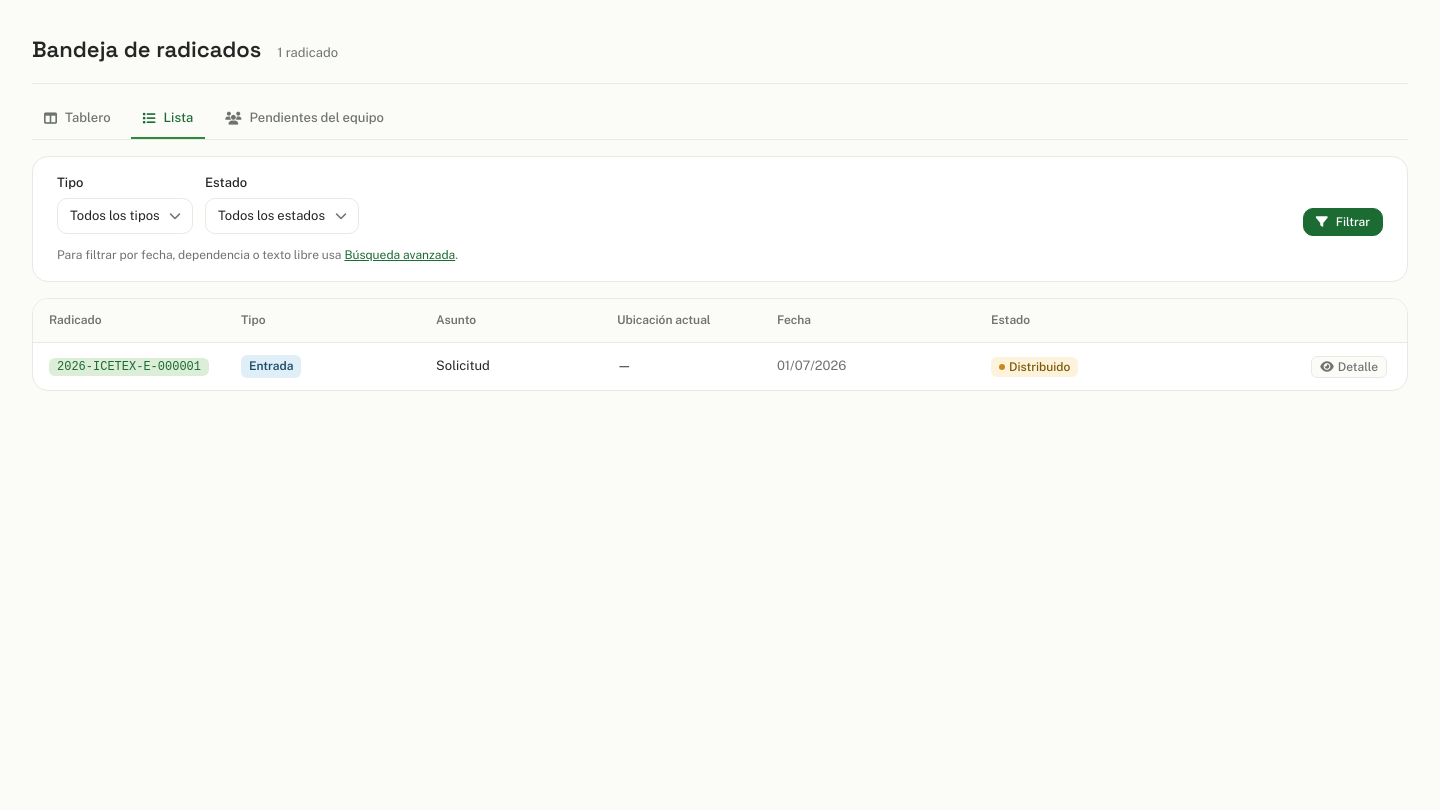
Test: bandeja — actos de trámite por tenencia › poseedor (asignado a mí): ve Marcar en trámite, Finalizar y Devolver
The image size is (1440, 810).
Click the button with aria-label "ver detalle" at (1349,367), box [1311,356,1387,378]
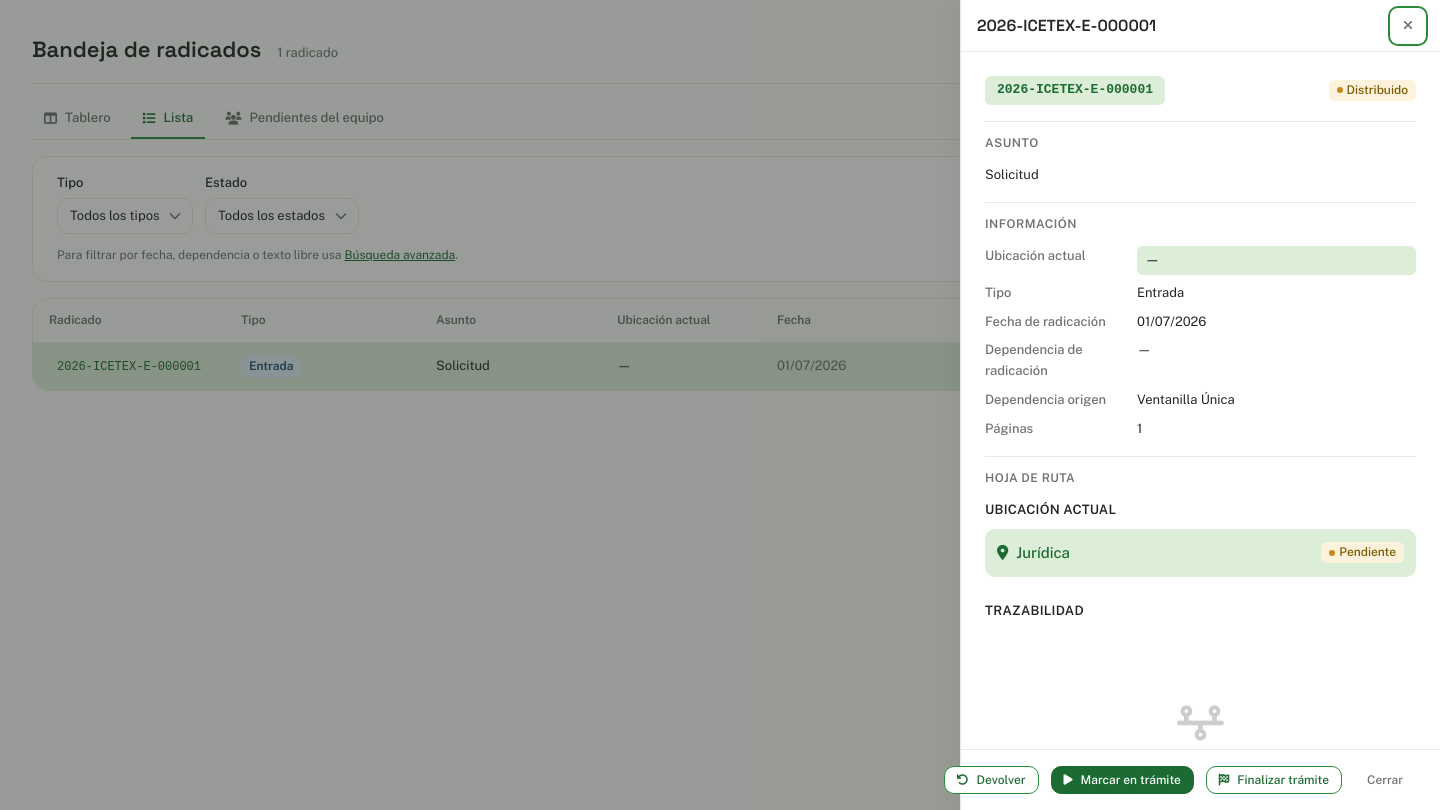
Now the 2nd heading "2026-ICETEX-E-000001" is shown, box [985,76,1165,105]
Now the 2nd button named "marcar en trámite" is shown, box [1050,766,1194,794]
Now the 3rd button named "finalizar trámite" is shown, box [1206,766,1342,794]
